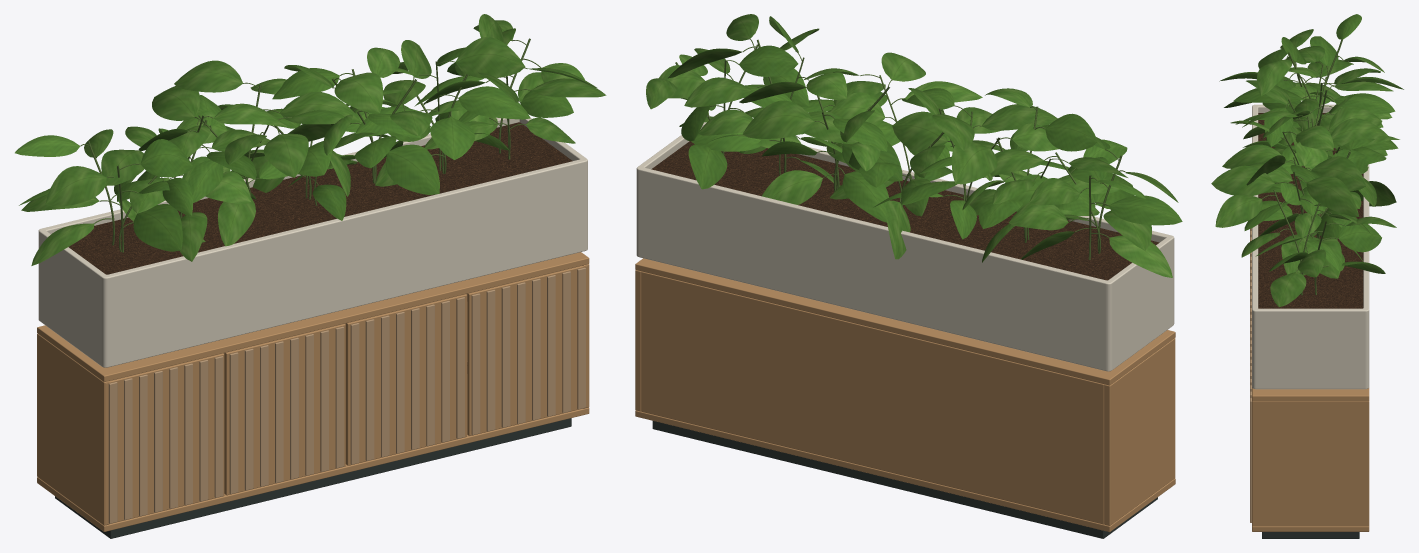
Rendered from botanicalDivider-9.glb.
The picture shows the model from 3 angles, left to right: view 1: azimuth 30°, elevation 25°; view 2: azimuth 150°, elevation 25°; view 3: azimuth 270°, elevation 25°; orthographic projection. The views are drawn at different scales.
Visible parts, largest first — view 1: Planter_pothos_leaves, Planter_oiled_oak, StoragePlanter_Batten (×32), StoragePlanter_Door (×4), Planter_loose_soil, StoragePlanter_Side, StoragePlanter_Top, StoragePlanter_Plinth, StoragePlanter_Bottom, Planter_pothos_stems; view 2: StoragePlanter_Back, Planter_pothos_leaves, Planter_oiled_oak, Planter_loose_soil, StoragePlanter_Side (×2), StoragePlanter_Top, StoragePlanter_Plinth, StoragePlanter_Bottom, Planter_pothos_stems; view 3: Planter_pothos_leaves, StoragePlanter_Side, Planter_oiled_oak, Planter_loose_soil, Planter_pothos_stems, StoragePlanter_Top, StoragePlanter_Bottom, StoragePlanter_Plinth, StoragePlanter_Batten.
Part boxes in pixels (x1=…): Planter_pothos_leaves: x1=15, y1=14, x2=606, y2=265; Planter_oiled_oak: x1=38, y1=117, x2=587, y2=367; StoragePlanter_Batten (×32): x1=108, y1=267, x2=585, y2=523; StoragePlanter_Door (×4): x1=105, y1=265, x2=588, y2=524; Planter_loose_soil: x1=68, y1=122, x2=572, y2=274; StoragePlanter_Side: x1=37, y1=333, x2=109, y2=525; StoragePlanter_Top: x1=37, y1=252, x2=589, y2=382; StoragePlanter_Plinth: x1=55, y1=418, x2=571, y2=538; StoragePlanter_Bottom: x1=37, y1=374, x2=589, y2=531; Planter_pothos_stems: x1=80, y1=38, x2=541, y2=252; StoragePlanter_Back: x1=641, y1=271, x2=1104, y2=524; Planter_pothos_leaves: x1=646, y1=14, x2=1182, y2=277; Planter_oiled_oak: x1=636, y1=122, x2=1174, y2=371; Planter_loose_soil: x1=651, y1=141, x2=1159, y2=280; StoragePlanter_Side (×2): x1=635, y1=270, x2=1175, y2=525; StoragePlanter_Top: x1=635, y1=258, x2=1175, y2=385; StoragePlanter_Plinth: x1=652, y1=421, x2=1157, y2=538; StoragePlanter_Bottom: x1=635, y1=410, x2=1175, y2=532; Planter_pothos_stems: x1=675, y1=39, x2=1125, y2=259; Planter_pothos_leaves: x1=1211, y1=14, x2=1403, y2=307; StoragePlanter_Side: x1=1252, y1=401, x2=1369, y2=526; Planter_oiled_oak: x1=1252, y1=104, x2=1369, y2=389; Planter_loose_soil: x1=1258, y1=113, x2=1363, y2=308; Planter_pothos_stems: x1=1262, y1=39, x2=1350, y2=295; StoragePlanter_Top: x1=1252, y1=387, x2=1369, y2=401; StoragePlanter_Bottom: x1=1252, y1=526, x2=1369, y2=531; StoragePlanter_Plinth: x1=1262, y1=532, x2=1359, y2=538; StoragePlanter_Batten: x1=1250, y1=398, x2=1251, y2=522.
Bounding box in the file's own units: 2.26 × 1.58 × 0.7924.
10 materials, 2 textured.
